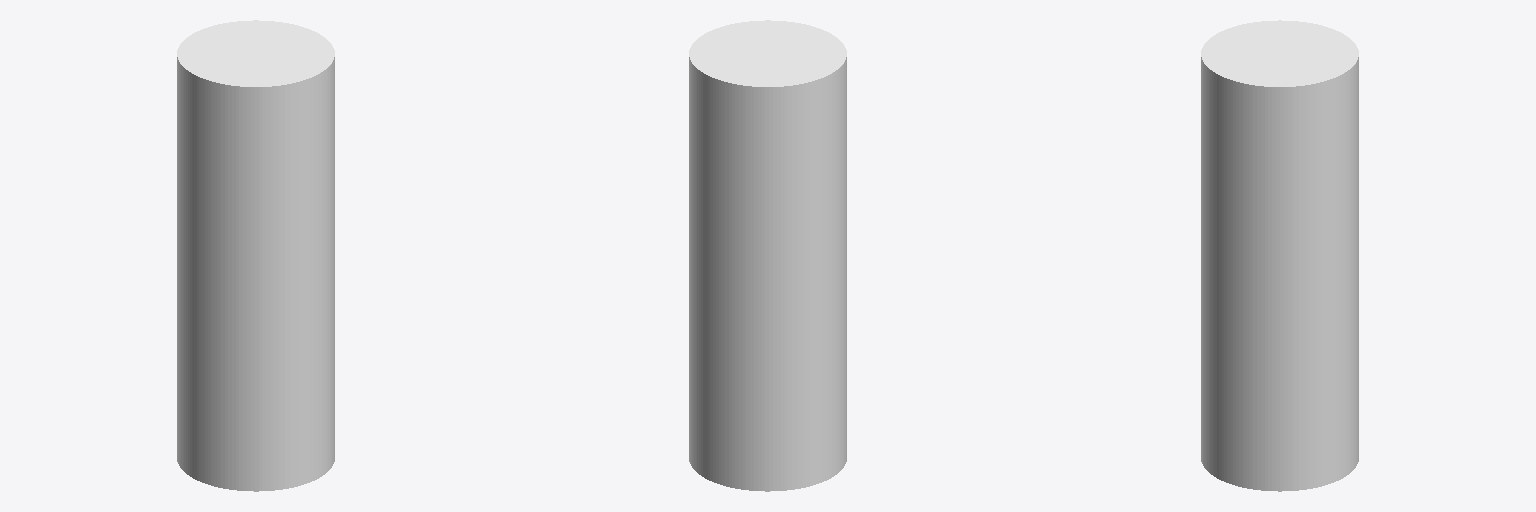
URDF robot description (Circle_cube_cap):
<?xml version="1.0" ?>
<robot name="Circle_cube_cap">
  <link name="baseLink">
    <contact>
    	<friction_anchor/>
    	   <lateral_friction value="1.0"/>
    </contact>
    <inertial>
      <origin rpy="0 0 0" xyz="0 0 0"/>
       <!-- mass controls penetration -->
       <inertia ixx="1e-4" ixy="0" ixz="0" iyy="1e-4" iyz="0" izz="1e-4"/>
    </inertial>
    <visual>
      <origin rpy="0 0 0" xyz="0 0 0"/>
      <geometry>
        <mesh filename="Circle_cube_cap.obj" scale="0.6 0.6 0.6"/>
      </geometry>
       <material name="white">
        <color rgba="1 1 1 1"/>
      </material>
    </visual>
    <collision>
      <origin rpy="0 0 0" xyz="0 0 0"/>
      <geometry>
        <mesh filename="Circle_cube_cap.obj" scale="0.6 0.6 0.6"/>
      </geometry>
      <sdf resolution="300"/>
    </collision>
  </link>
</robot>

--- Facts derived from the render (not from the file) ---
3 views of the same robot in one strip: view 1: azimuth 30°, elevation 25°; view 2: azimuth 150°, elevation 25°; view 3: azimuth 270°, elevation 25° (orthographic).
Model Circle_cube_cap with 1 links and 0 joints (none), rooted at baseLink, posed every joint at zero.
Visible links, largest first — view 1: baseLink; view 2: baseLink; view 3: baseLink.
Link boxes in pixels (x1,y1,x2,y2): baseLink: [177, 20, 334, 491]; baseLink: [689, 20, 846, 491]; baseLink: [1201, 20, 1358, 491].
Bounding box of the posed robot: 0.0211 × 0.0211 × 0.0595 m (x, y, z).
1 mesh visuals loaded from 1 distinct referenced files (1 OBJ).